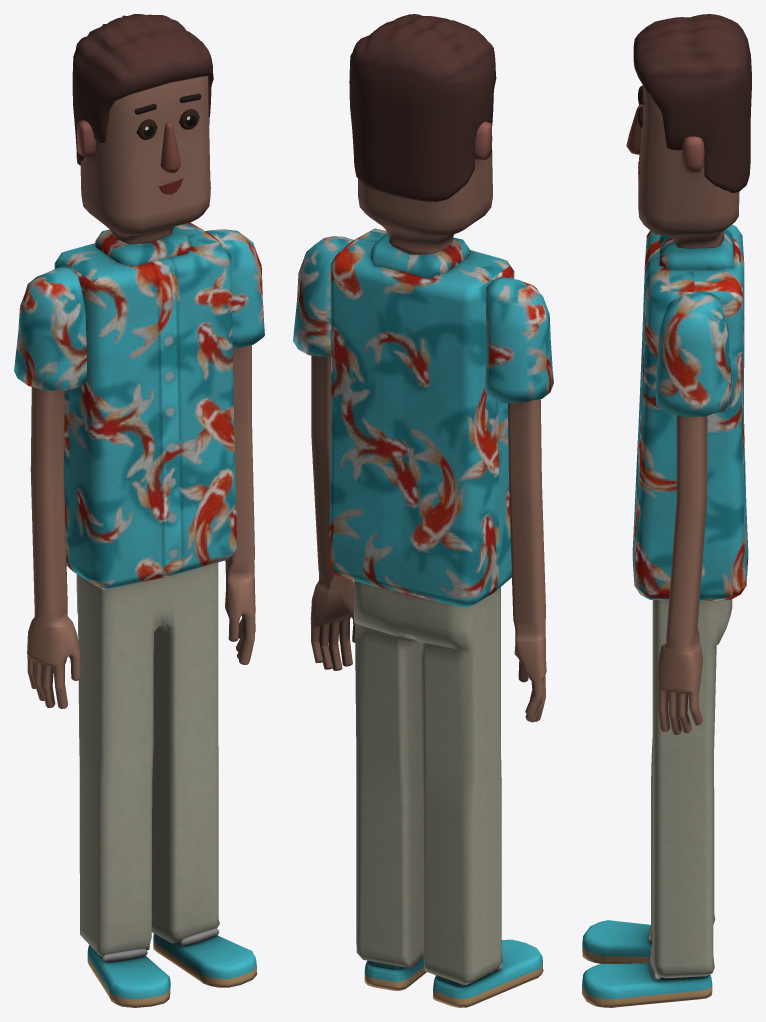
The model's file is rubenoid-male-01_chays.obj.
3 views of the same model, side by side, from view 1: azimuth 30°, elevation 25°; view 2: azimuth 150°, elevation 25°; view 3: azimuth 270°, elevation 25° (orthographic). The views are drawn at different scales.
Visible parts, largest first — view 1: Default; view 2: Default; view 3: Default.
Boxes of the visible parts, bbox=[...] form: Default: bbox=[14, 14, 264, 1007]; Default: bbox=[293, 14, 553, 1007]; Default: bbox=[582, 14, 751, 1007].
Size of the model in its own units: 0.4839 by 1.82 by 0.2952.
